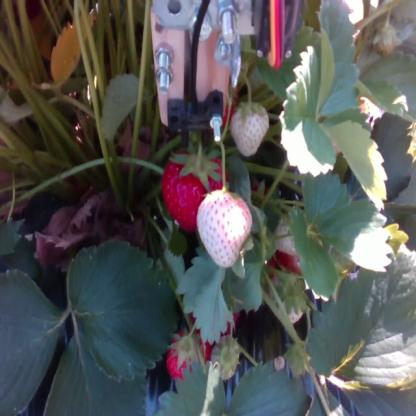ripe: (162, 154, 228, 226), (168, 330, 206, 380)
unripe: (200, 194, 248, 265), (231, 106, 267, 153)
